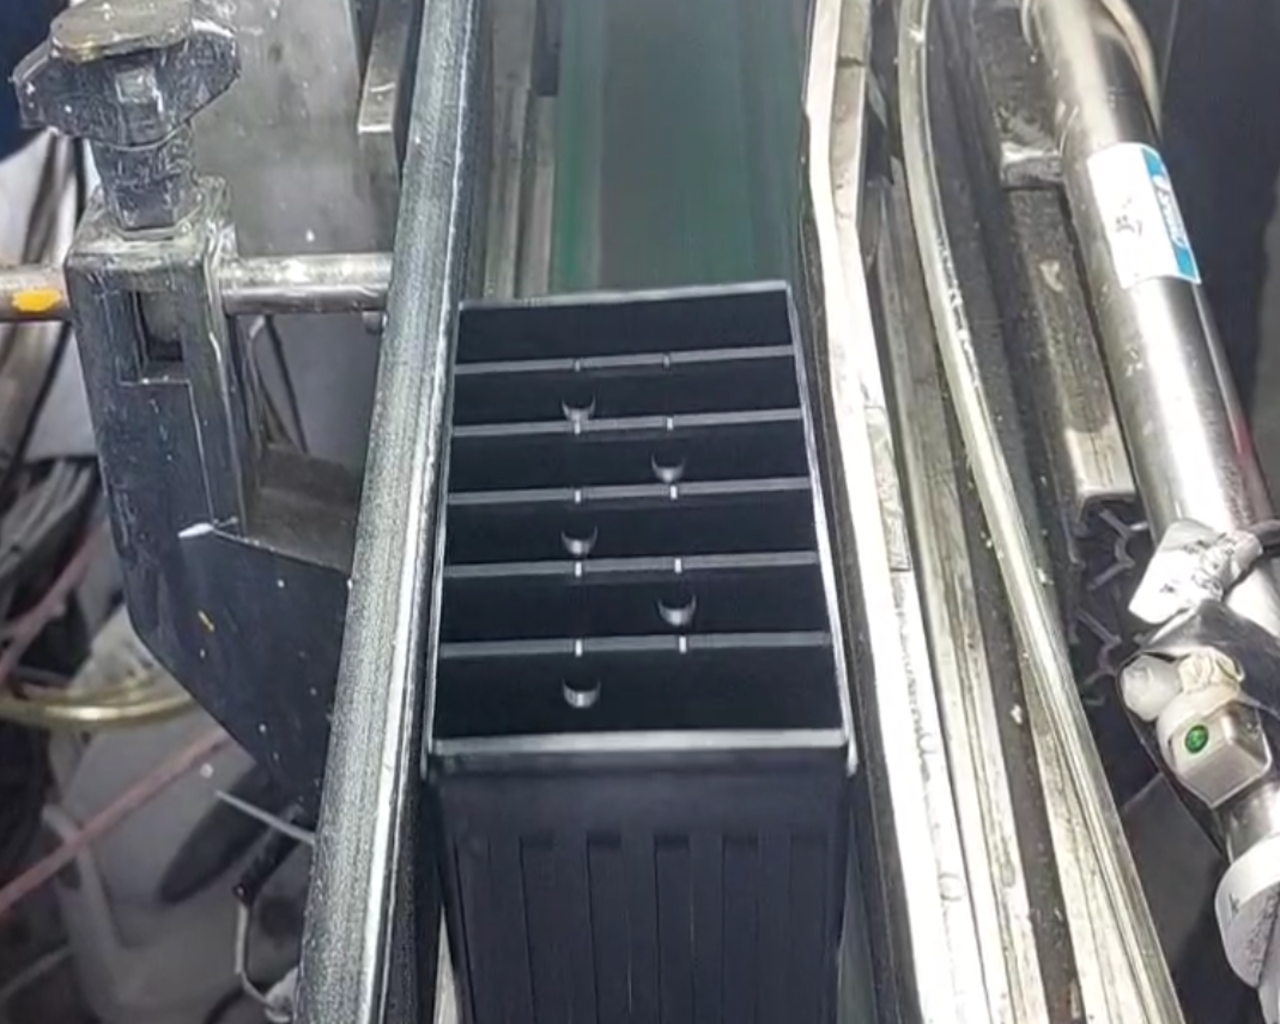box: (409, 271, 885, 798)
round: (540, 650, 618, 717), (637, 573, 716, 635), (634, 429, 705, 494), (544, 497, 613, 562), (540, 372, 606, 429)
